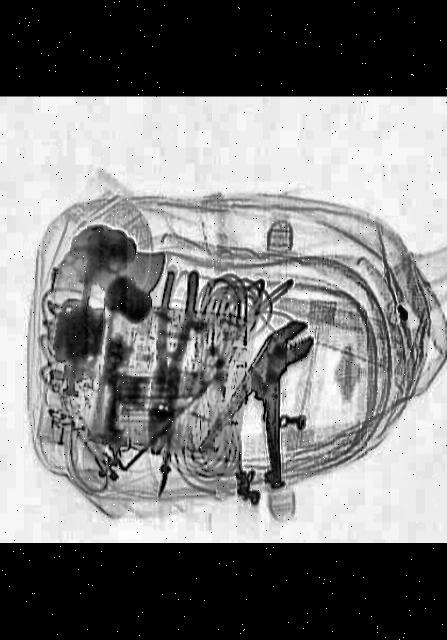Pliers: (185, 310, 346, 487), (134, 266, 197, 454)
